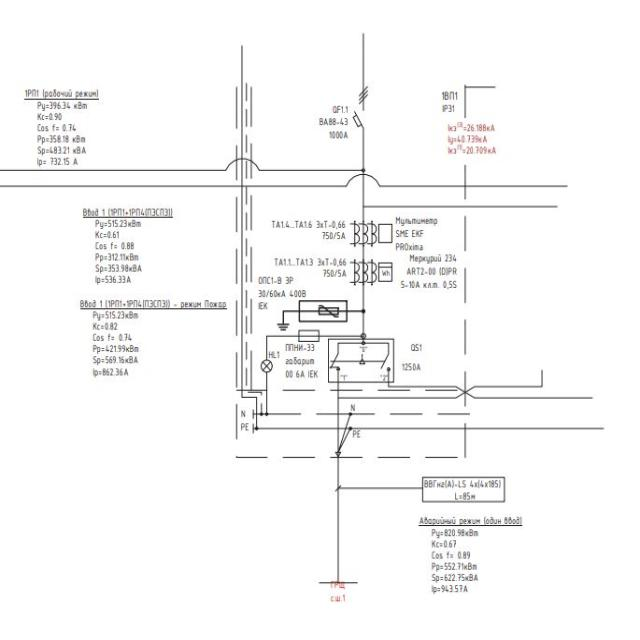-: (398, 253, 459, 290), (256, 275, 308, 313), (394, 215, 439, 252), (283, 342, 319, 379), (315, 219, 346, 242), (316, 256, 346, 279), (318, 118, 349, 140), (440, 90, 460, 113), (401, 362, 422, 373)
FU: (297, 329, 321, 342)
HL: (258, 358, 274, 374)
OPS: (298, 299, 349, 323)
PM: (378, 221, 393, 244)
QF: (351, 86, 370, 131)
TT: (348, 255, 378, 288), (348, 219, 378, 251)
WH: (378, 261, 393, 281)
switch: (328, 351, 392, 373)
